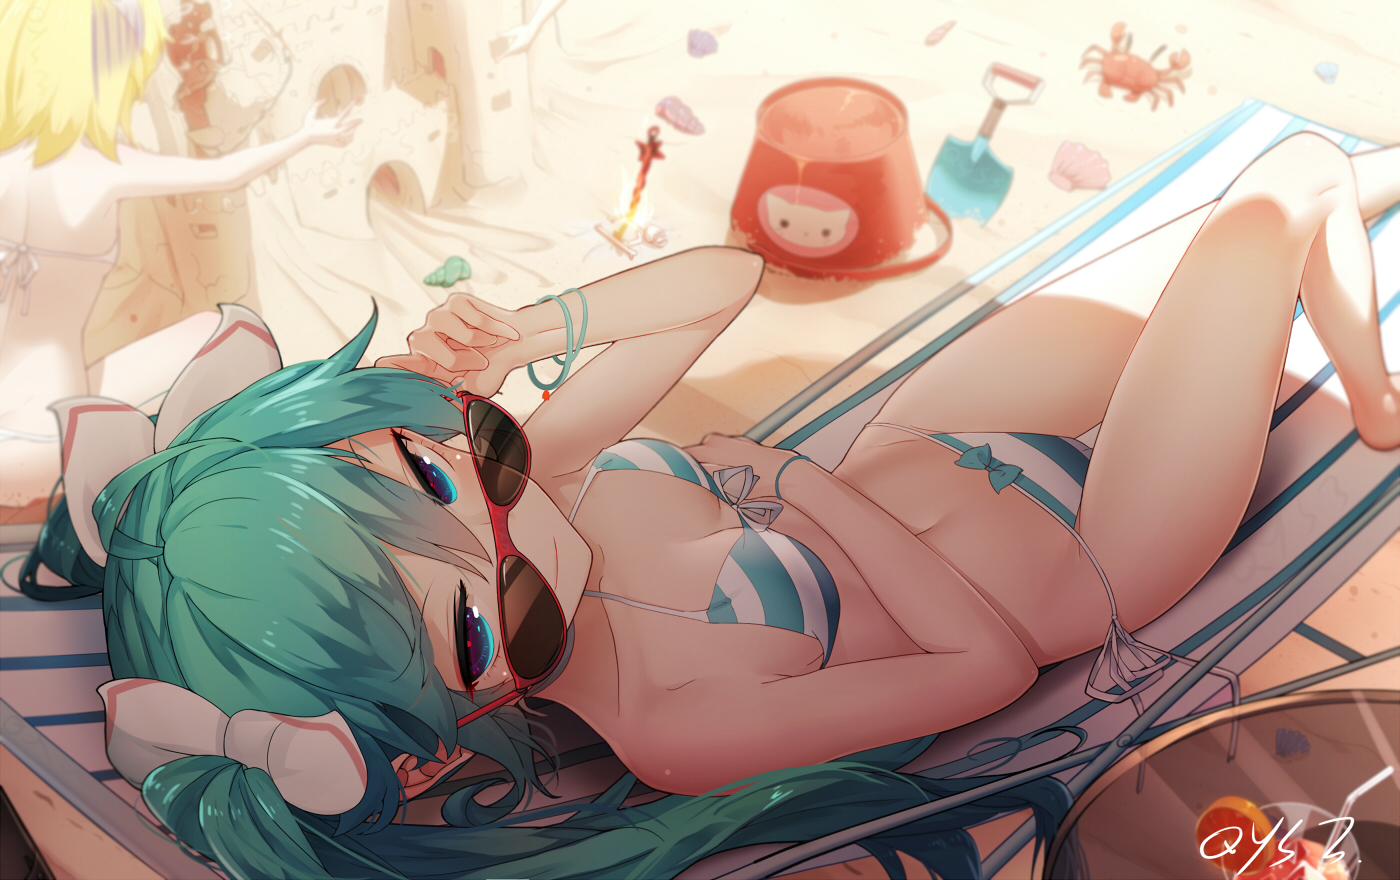anime face: (292, 410, 611, 692)
